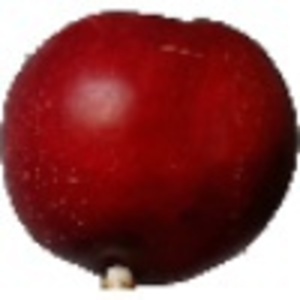nectarina: (1, 9, 300, 294)
